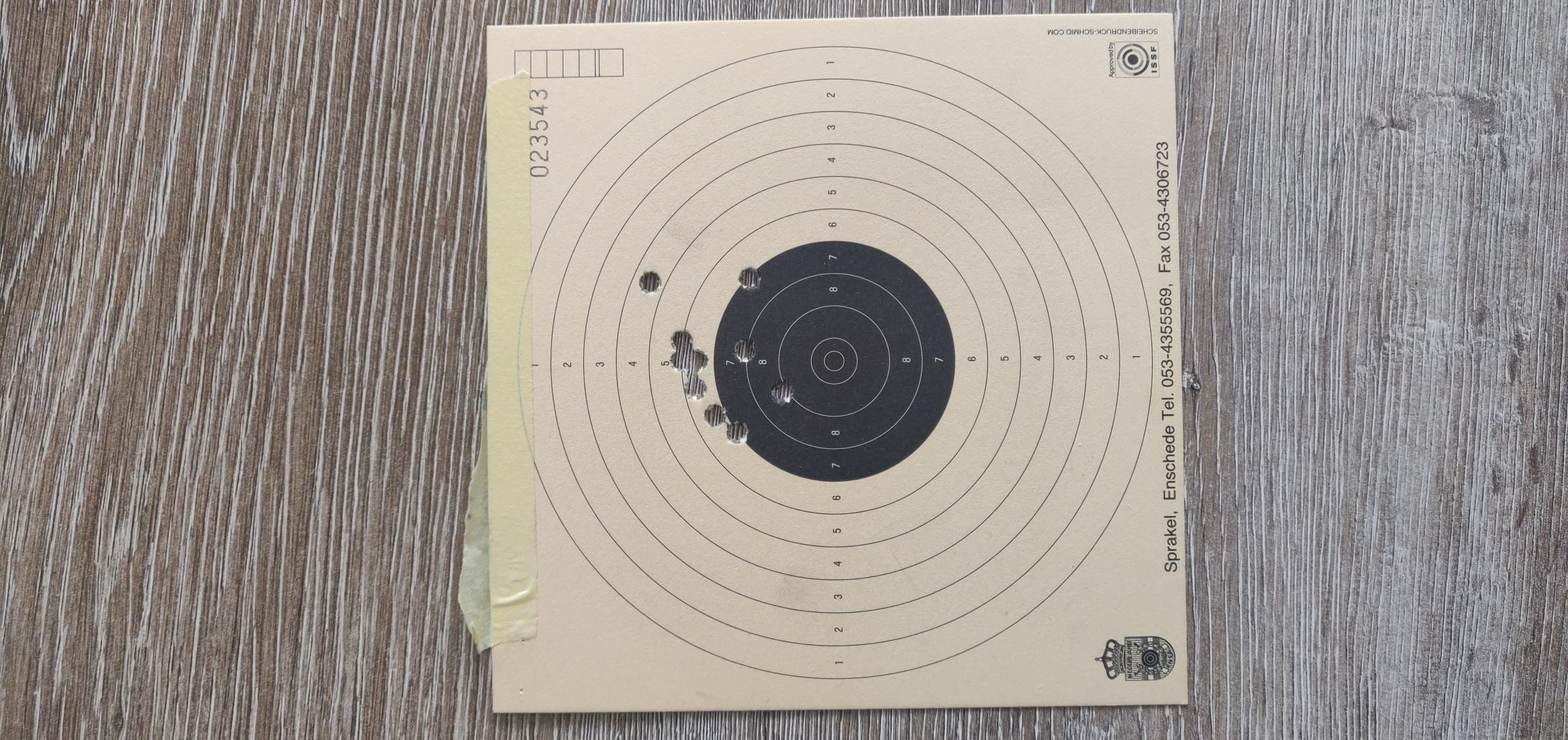hole: (707, 363, 764, 376), (799, 345, 852, 358), (943, 301, 996, 313), (718, 322, 770, 334), (625, 342, 676, 354), (660, 332, 715, 343), (774, 325, 831, 335), (953, 348, 1003, 359), (827, 316, 869, 327), (779, 315, 827, 324)
